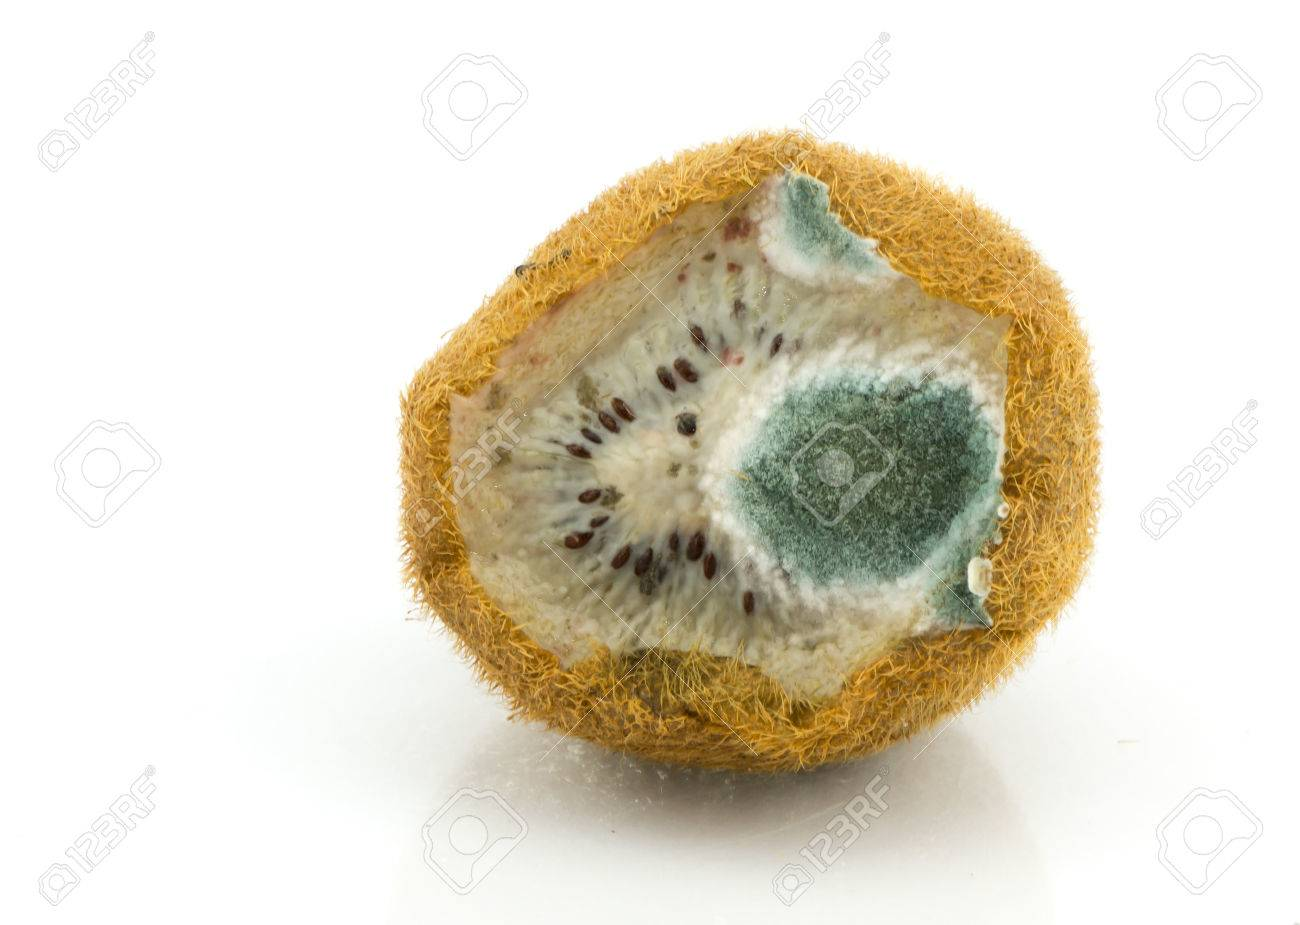damaged_kiwi: (407, 147, 1102, 761)
